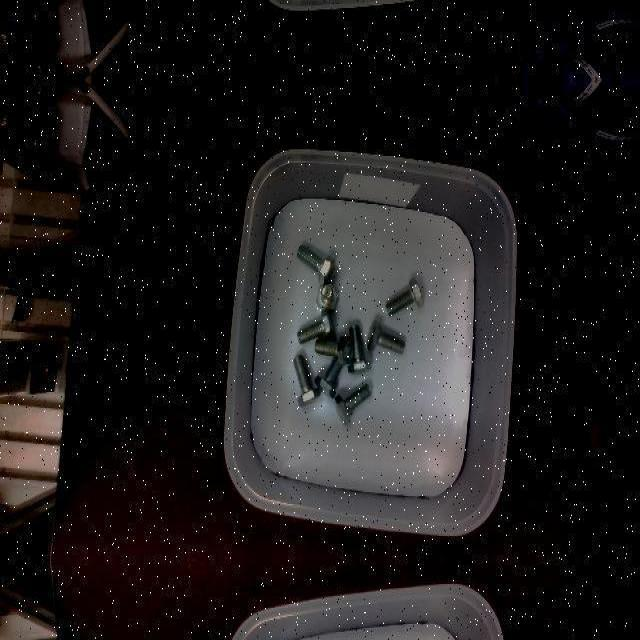screw: (384, 276, 424, 316), (296, 245, 334, 287), (335, 383, 372, 425), (292, 354, 320, 406), (366, 318, 405, 354), (296, 309, 334, 345), (314, 336, 353, 366)
